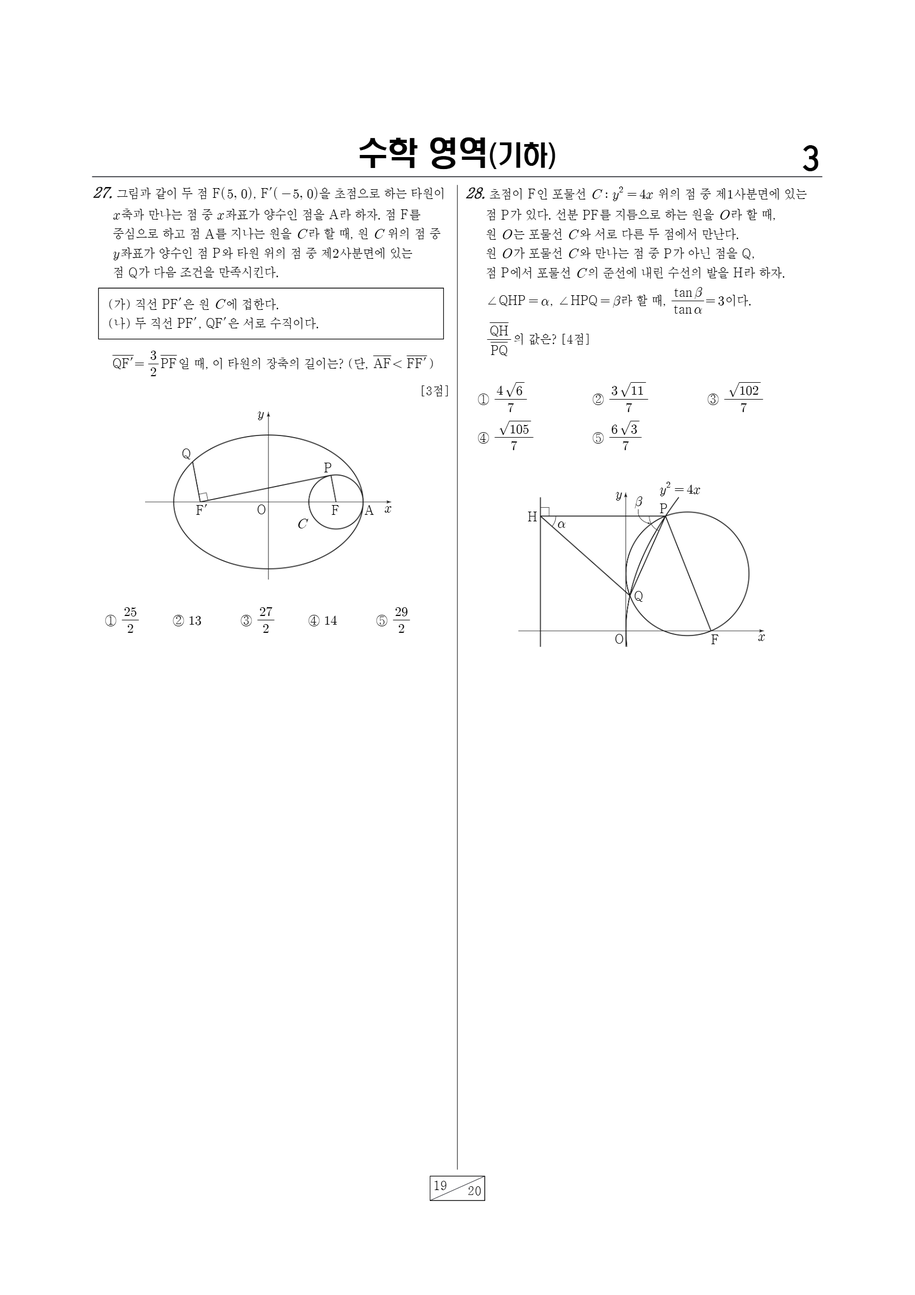opt_1: (474, 391, 491, 407), (105, 613, 117, 627)
opt_2: (590, 389, 607, 407), (172, 613, 184, 627)
opt_3: (706, 391, 720, 407), (240, 613, 253, 627)
opt_4: (476, 431, 490, 445), (308, 613, 320, 627)
opt_5: (591, 431, 604, 445), (375, 613, 387, 627)
